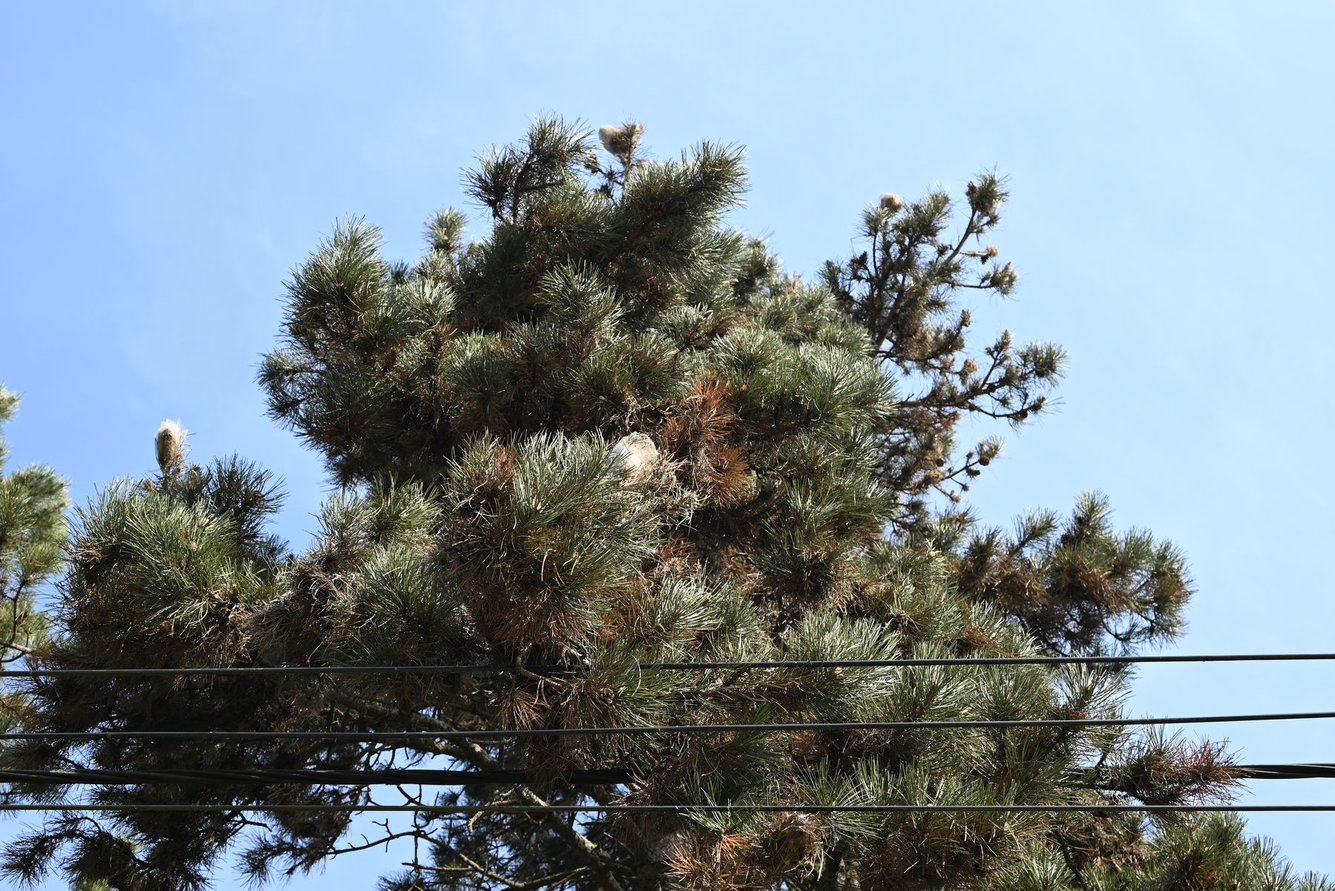thaumatopoea pityocampa jajno gnijezdo: (152, 417, 190, 486), (597, 119, 645, 166), (611, 433, 659, 478), (970, 182, 1005, 221), (879, 191, 905, 212)
